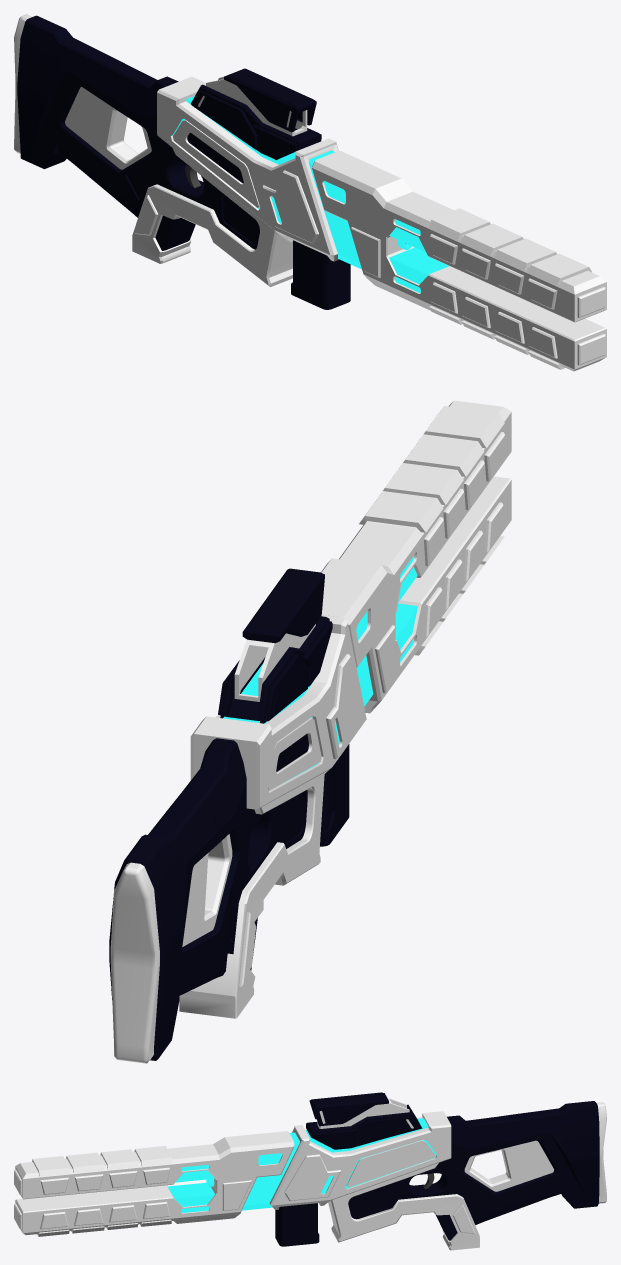
File: RAILGUN.glb
The picture shows the model from 3 angles, top to bottom: view 1: azimuth 30°, elevation 25°; view 2: azimuth 150°, elevation 25°; view 3: azimuth 270°, elevation 25°; orthographic projection. The views are drawn at different scales.
Visible parts, largest first — view 1: polySurface54, Stock, polySurface53, BodyComponent1, Scope, Cartridge, BodyComponent5; view 2: Stock, polySurface54, polySurface53, Scope, BodyComponent1, Cartridge; view 3: polySurface54, Stock, polySurface53, Scope, BodyComponent1, Cartridge.
Boxes of the visible parts, box(x1,y1,x2,y2) form: polySurface54: box(312, 151, 606, 371); Stock: box(14, 14, 259, 249); polySurface53: box(157, 76, 361, 269); BodyComponent1: box(132, 148, 292, 286); Scope: box(191, 68, 321, 159); Cartridge: box(291, 240, 350, 309); BodyComponent5: box(187, 133, 243, 183); Stock: box(109, 738, 307, 1063); polySurface54: box(321, 400, 511, 713); polySurface53: box(190, 615, 373, 809); Scope: box(218, 568, 332, 723); BodyComponent1: box(179, 773, 324, 1018); Cartridge: box(320, 744, 349, 846); polySurface54: box(14, 1131, 294, 1236); Stock: box(348, 1101, 606, 1224); polySurface53: box(242, 1111, 451, 1210); Scope: box(306, 1092, 422, 1149); BodyComponent1: box(328, 1163, 479, 1250); Cartridge: box(275, 1203, 319, 1246).
Bounding box in the file's own units: 0.494 × 0.5166 × 1.79.
5 materials, 1 textured.
